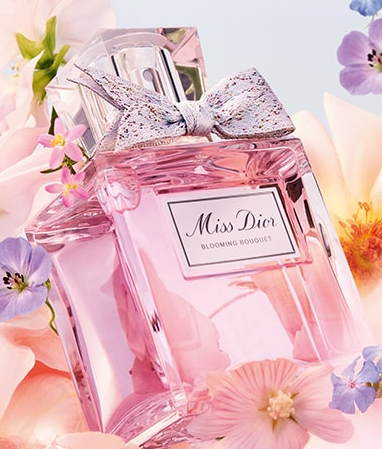dior_miss_dior: (31, 25, 374, 432)
